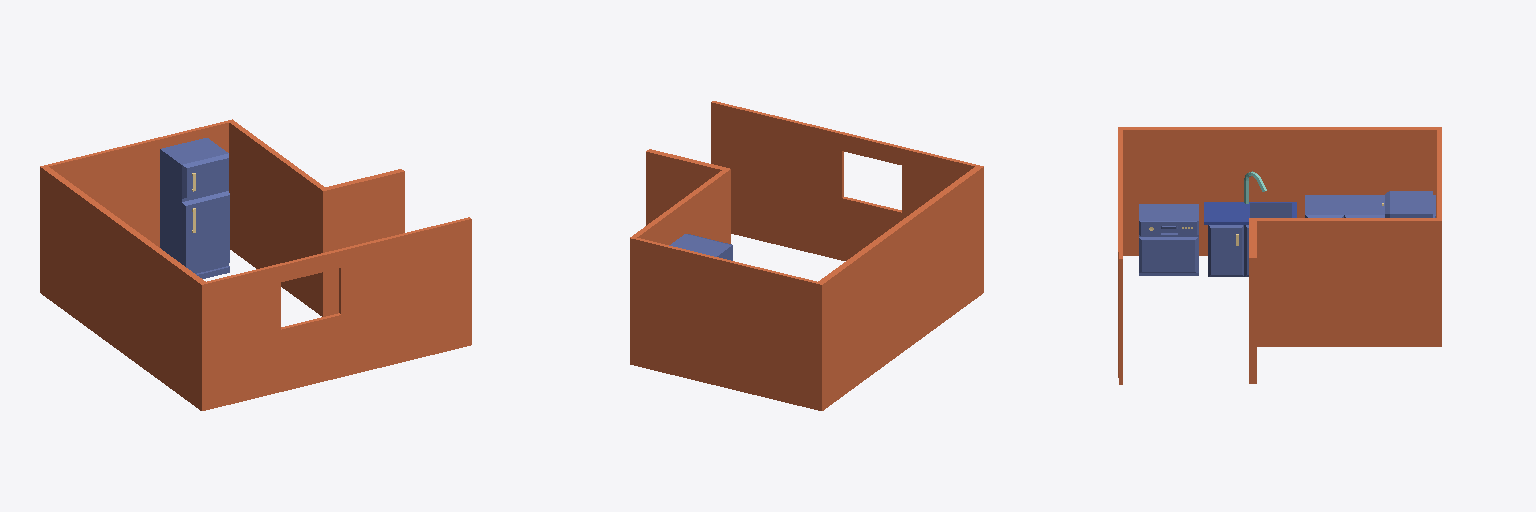
Rendered from kitchen_tri.obj.
3 views of the same model, side by side, from view 1: azimuth 30°, elevation 25°; view 2: azimuth 150°, elevation 25°; view 3: azimuth 270°, elevation 25° (orthographic).
Visible parts, largest first — view 1: polySurface31, refridge1; view 2: polySurface31, refridge1; view 3: polySurface31, polySurface30, polySurface29, polySurface28, refridge1.
Part boxes in pixels (bbox=[...]): polySurface31: bbox=[40, 119, 471, 410]; refridge1: bbox=[160, 138, 229, 278]; polySurface31: bbox=[630, 101, 983, 410]; refridge1: bbox=[669, 234, 732, 260]; polySurface31: bbox=[1118, 127, 1441, 384]; polySurface30: bbox=[1139, 204, 1198, 275]; polySurface29: bbox=[1204, 171, 1296, 276]; polySurface28: bbox=[1305, 195, 1435, 217]; refridge1: bbox=[1382, 191, 1432, 217].
Size of the model in its own units: 33.55 by 15 by 34.83.